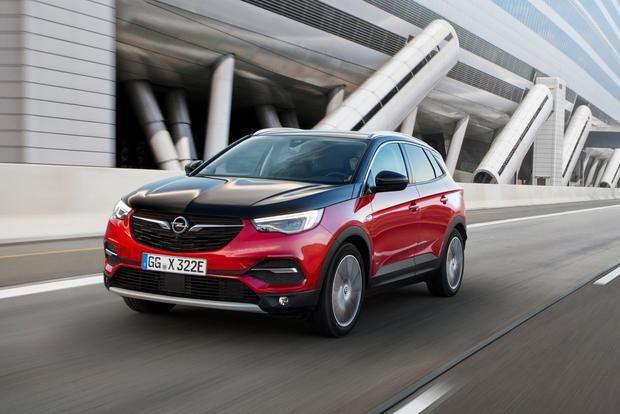car: (100, 129, 468, 337)
